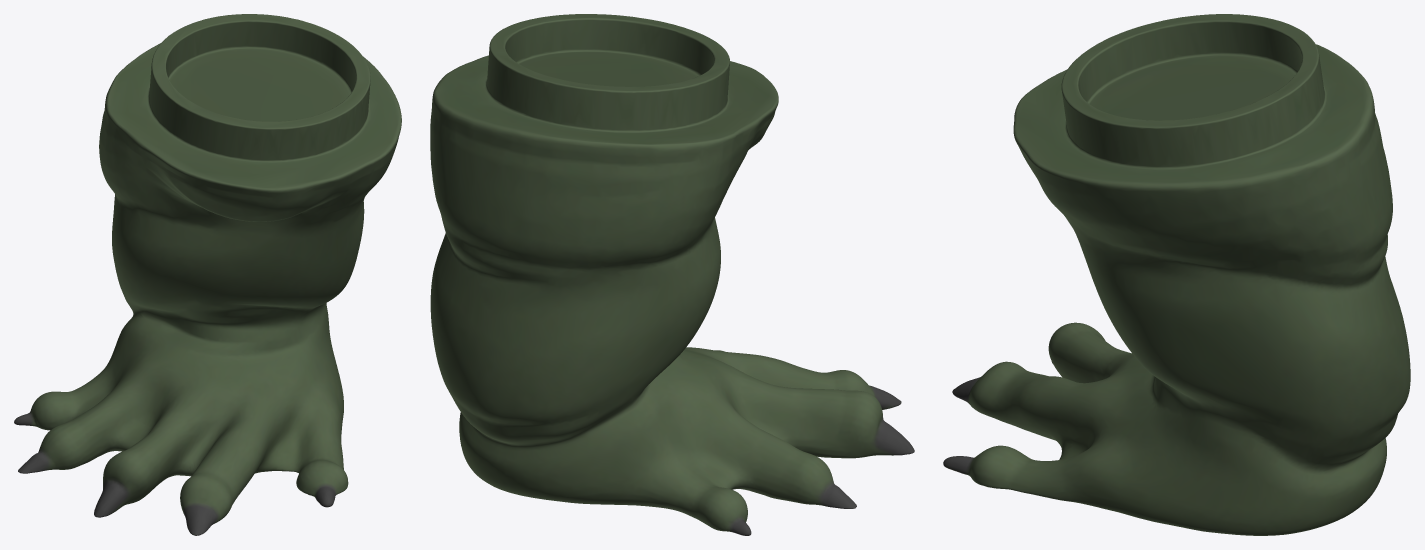
File: Patte_Crocodile_rg.glb
3 views of the same model, side by side, from view 1: azimuth 30°, elevation 25°; view 2: azimuth 150°, elevation 25°; view 3: azimuth 270°, elevation 25° (orthographic). The views are drawn at different scales.
Parts seen in each view (by area): view 1: Patte_Crocodile_rg; view 2: Patte_Crocodile_rg; view 3: Patte_Crocodile_rg.
Boxes of the visible parts, <box> form: Patte_Crocodile_rg: <box>14,14,401,535</box>; Patte_Crocodile_rg: <box>430,14,914,535</box>; Patte_Crocodile_rg: <box>943,14,1410,535</box>.
Bounding box in the file's own units: 2.35 × 2.28 × 2.23.
